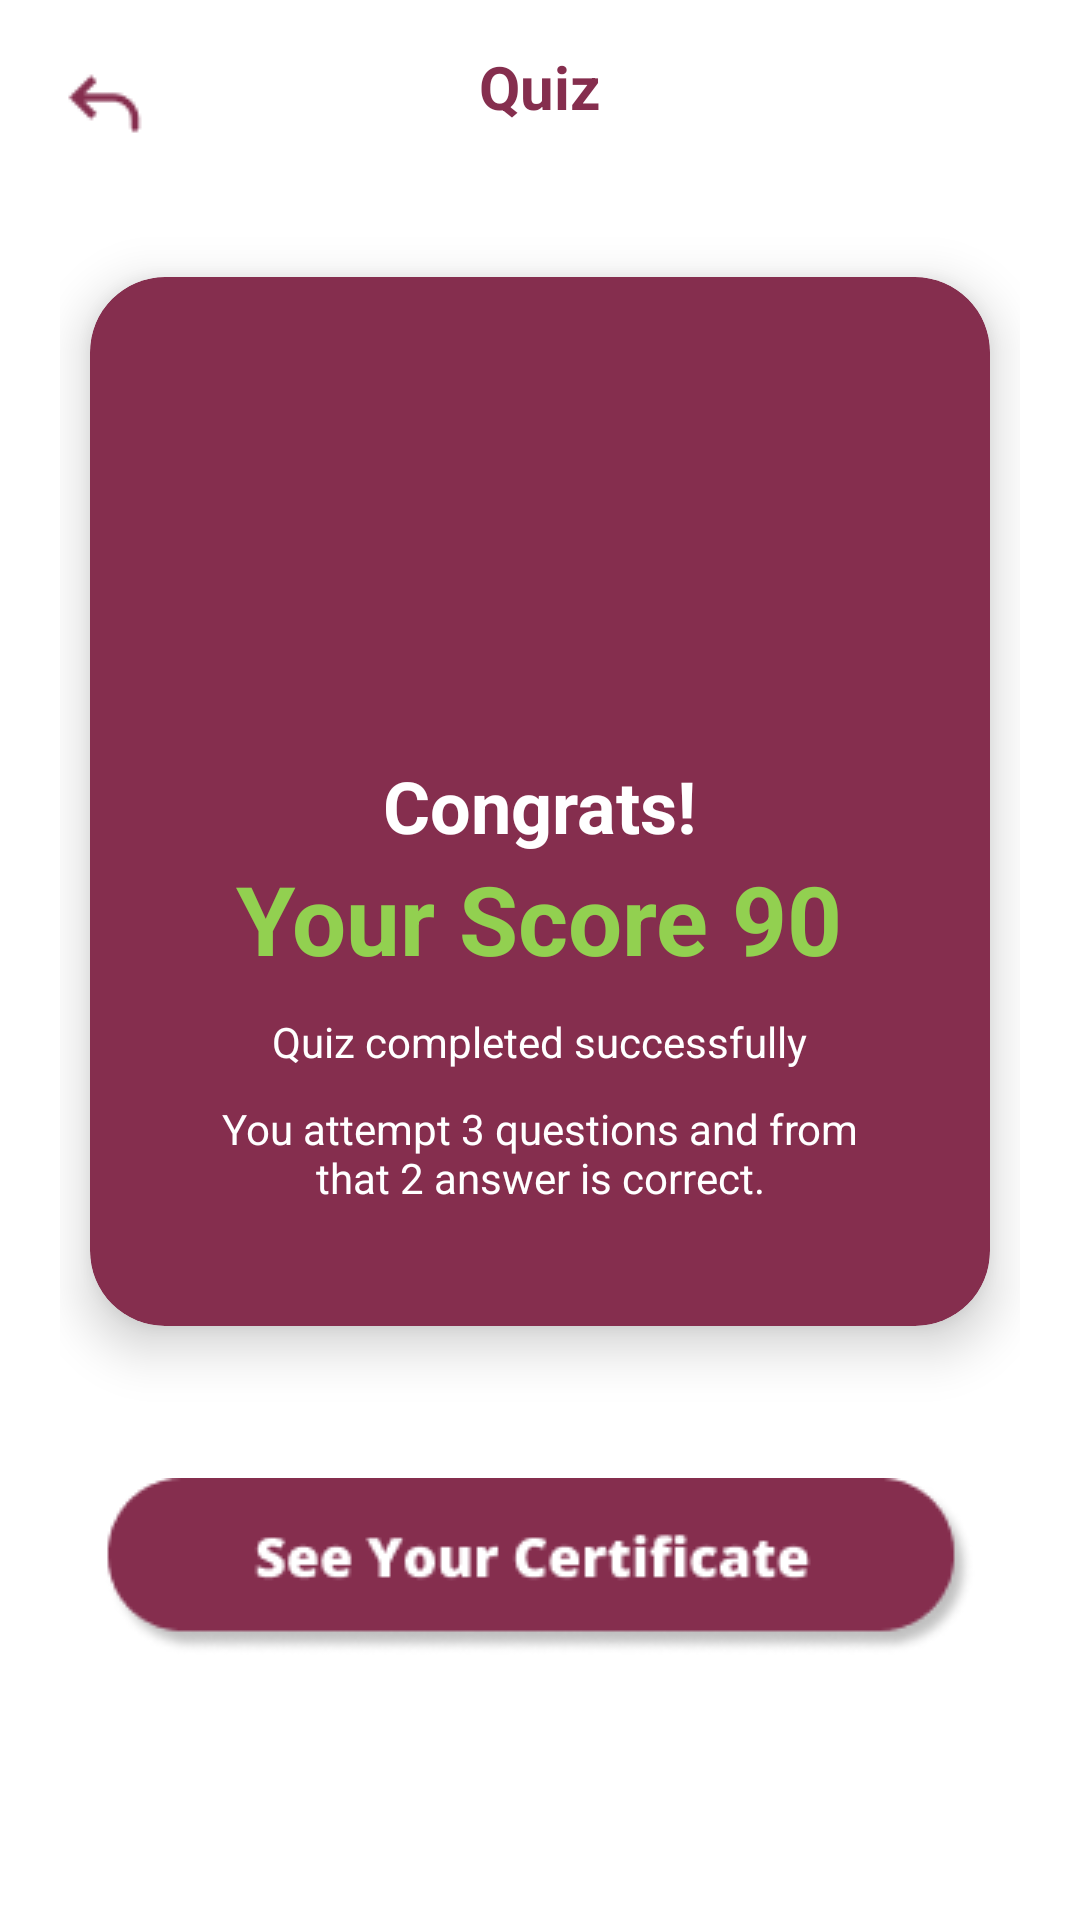

Screen size 1080x1920. Icon name, then its box in pixels as (x1, y1, x2, y2):
back: (68, 74, 141, 133)
